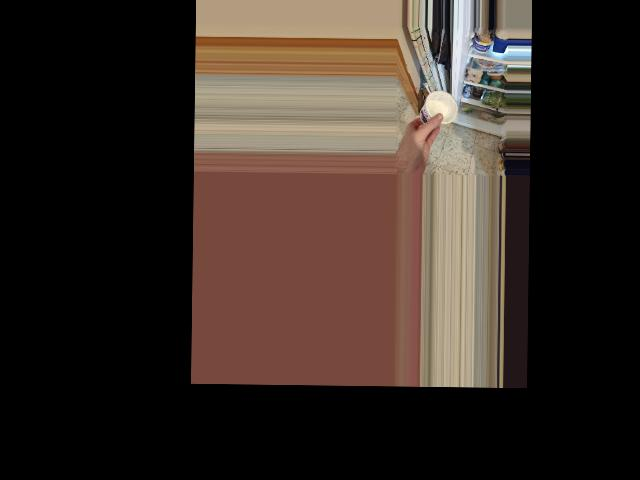cotage: (417, 88, 458, 127)
